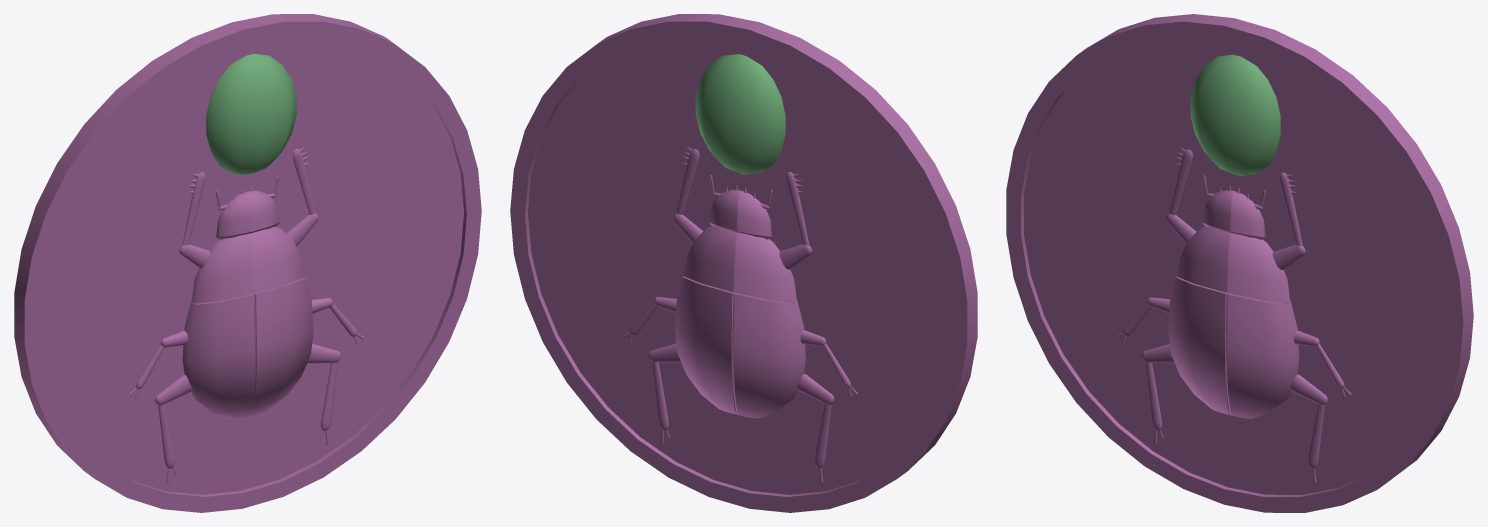
File: Moneda Perla.fbx
The picture shows the model from 3 angles, left to right: view 1: azimuth 30°, elevation 25°; view 2: azimuth 150°, elevation 25°; view 3: azimuth 330°, elevation 25°; orthographic projection.
Visible parts, largest first — view 1: polySurface66; view 2: polySurface66; view 3: polySurface66.
Boxes of the visible parts, bbox=[...] form: polySurface66: bbox=[14, 14, 481, 512]; polySurface66: bbox=[510, 14, 977, 512]; polySurface66: bbox=[1006, 14, 1473, 512].
Bounding box in the file's own units: 4.66 × 4.67 × 0.6053.
